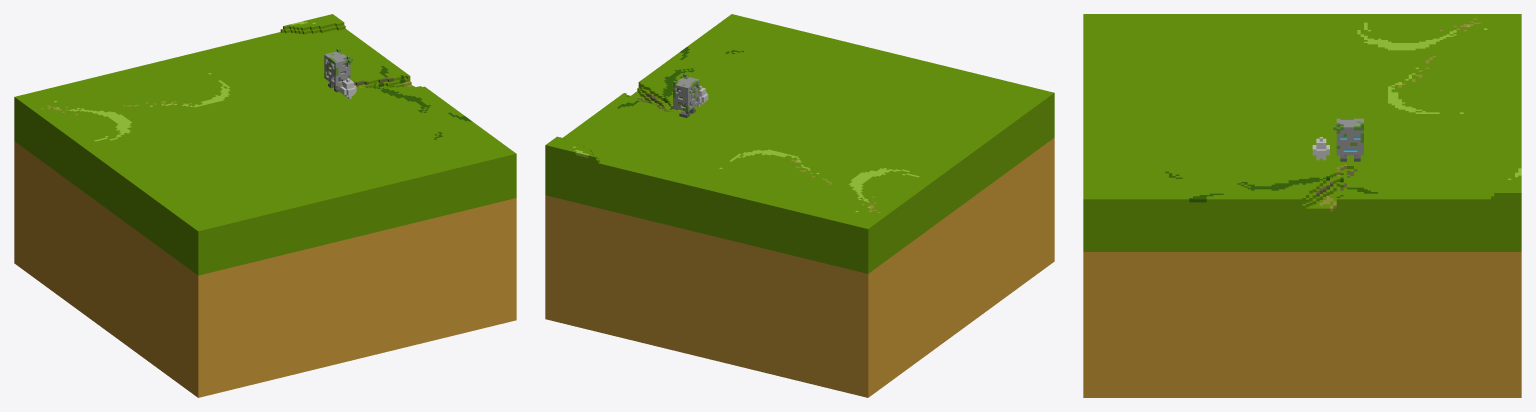
3 renders of one model, left to right at view 1: azimuth 30°, elevation 25°; view 2: azimuth 150°, elevation 25°; view 3: azimuth 270°, elevation 25°, orthographic. The views are drawn at different scales.
Visible parts, largest first — view 1: 7C; view 2: 7C; view 3: 7C.
Part boxes in pixels (x1,y1,x2,y2): 7C: (14,14,516,397); 7C: (545,14,1054,397); 7C: (1083,14,1521,397).
Size of the model in its own units: 12.8 by 7.7 by 12.8.
1 material, 1 textured.
